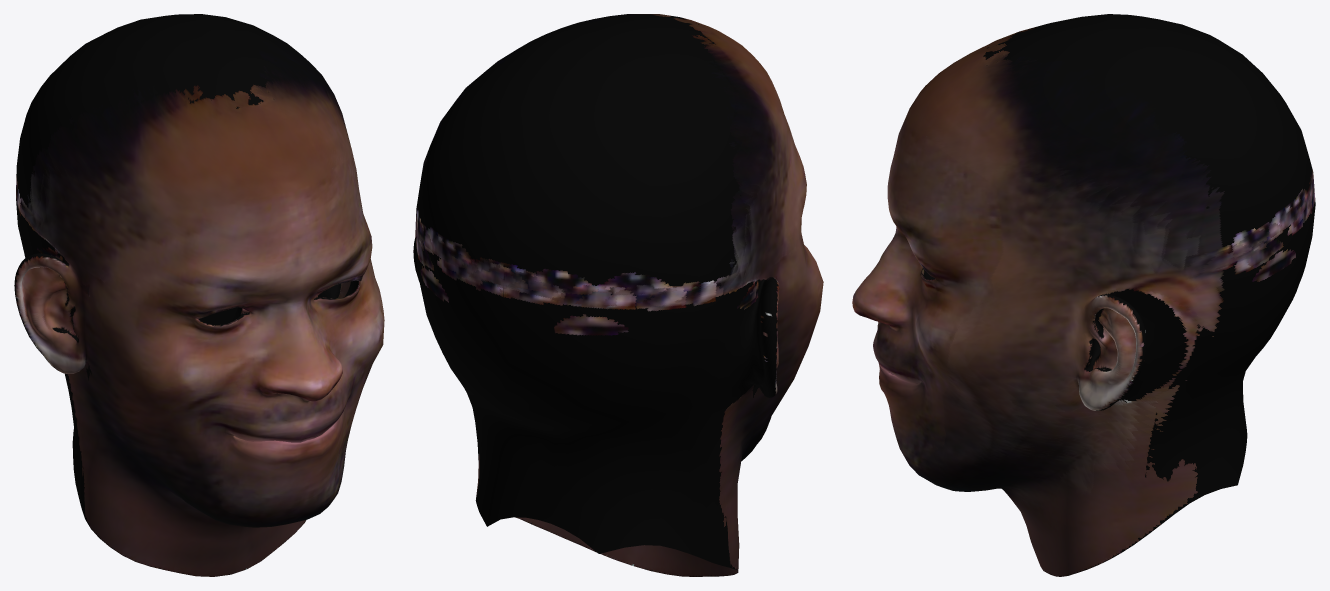
The model's file is Dimple.obj.
3 views of the same model, side by side, from view 1: azimuth 30°, elevation 25°; view 2: azimuth 150°, elevation 25°; view 3: azimuth 270°, elevation 25° (orthographic). The views are drawn at different scales.
Bounding box in the file's own units: 191 × 281 × 223.
